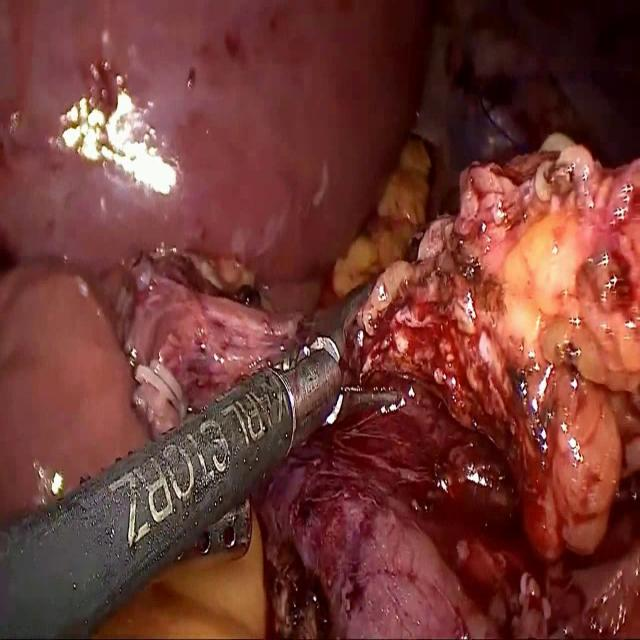surgical-tool: (0, 282, 402, 639)
